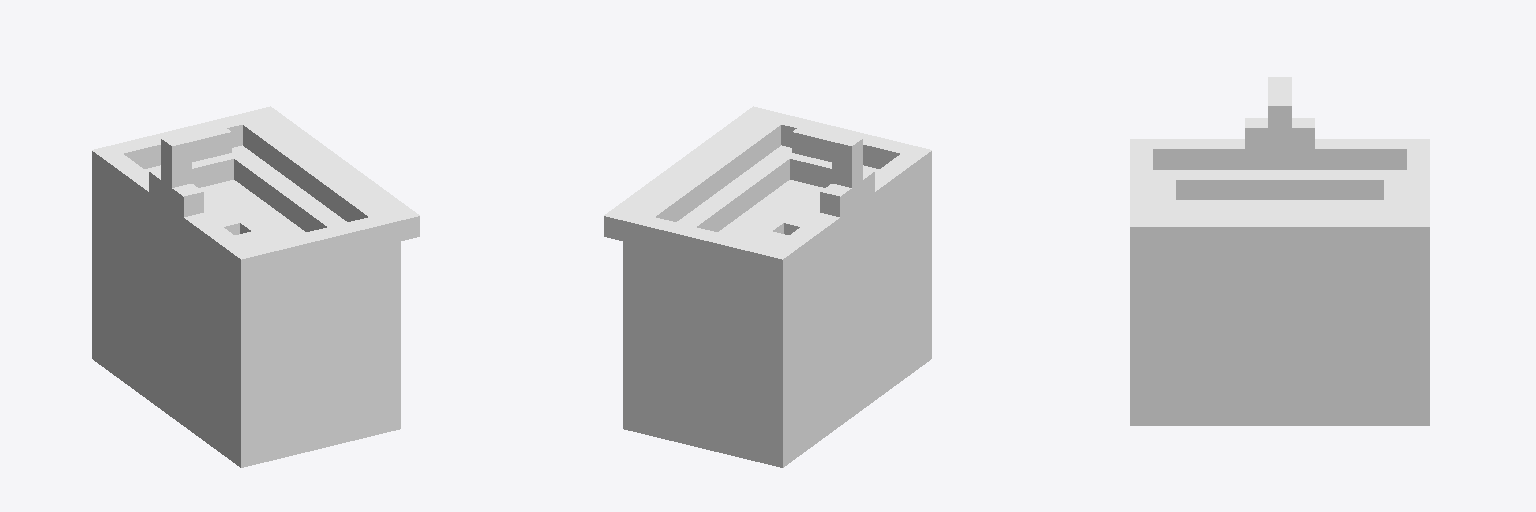
The model's file is washing.obj.
3 renders of one model, left to right at view 1: azimuth 30°, elevation 25°; view 2: azimuth 150°, elevation 25°; view 3: azimuth 270°, elevation 25°, orthographic.
Bounding box in the file's own units: 9 × 13 × 13.